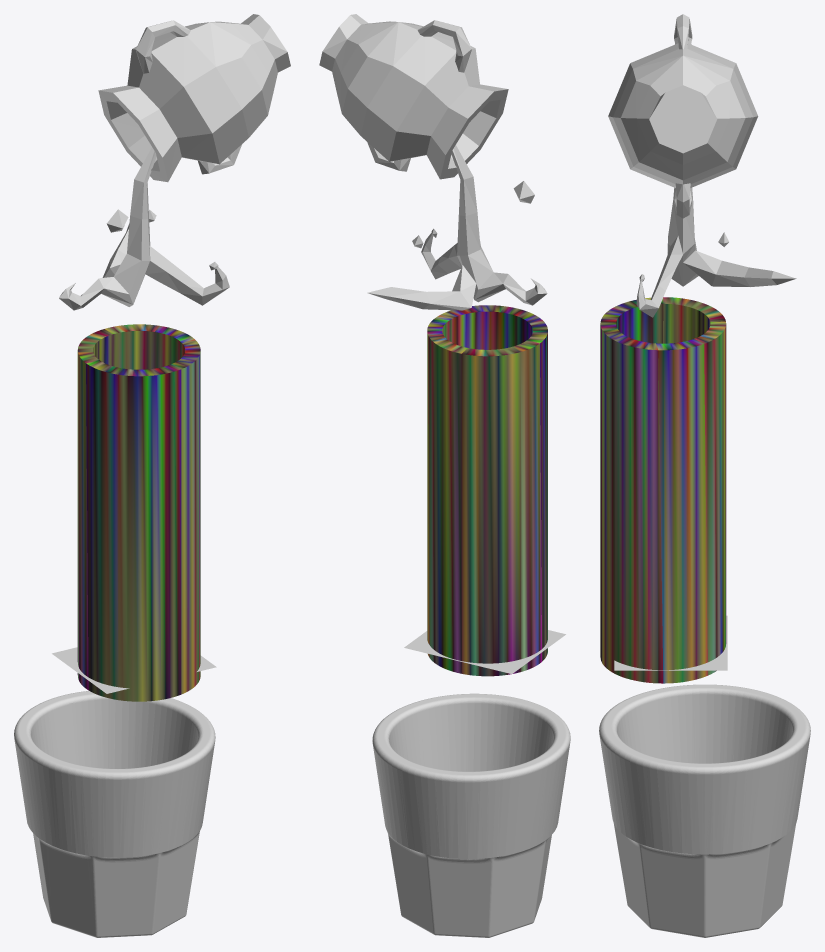
File: filter.fbx
3 views of the same model, side by side, from view 1: azimuth 30°, elevation 25°; view 2: azimuth 150°, elevation 25°; view 3: azimuth 270°, elevation 25° (orthographic). The views are drawn at different scales.
Bounding box in the file's own units: 0.664 × 2.3 × 0.4882.
